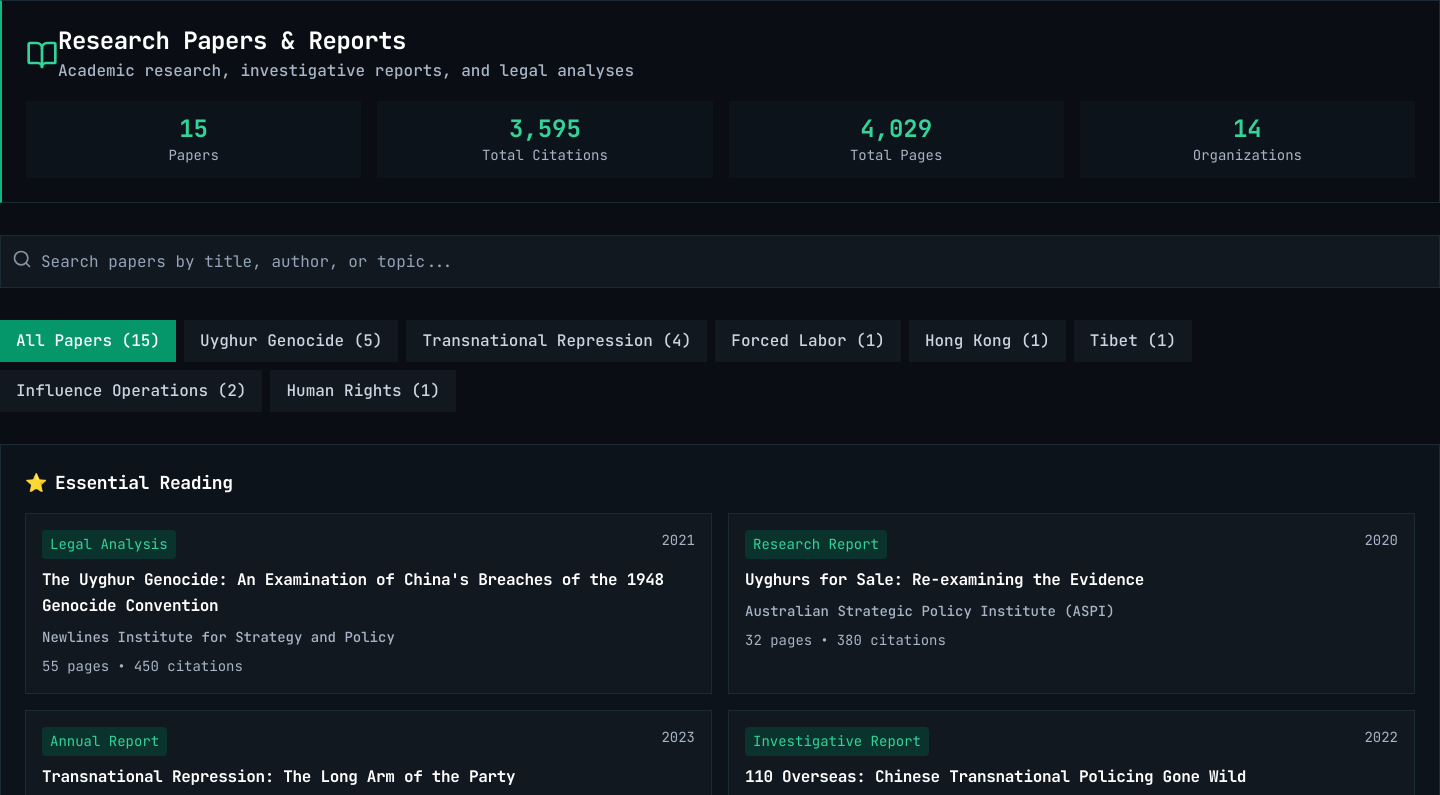
Scenario: ResearchPapers › shows no results message when search has no matches
This screenshot has width=1440, height=795.
In the field labelled "Search": {"x": 720, "y": 262} [0,235,1439,288], type "zzzznonexistent"
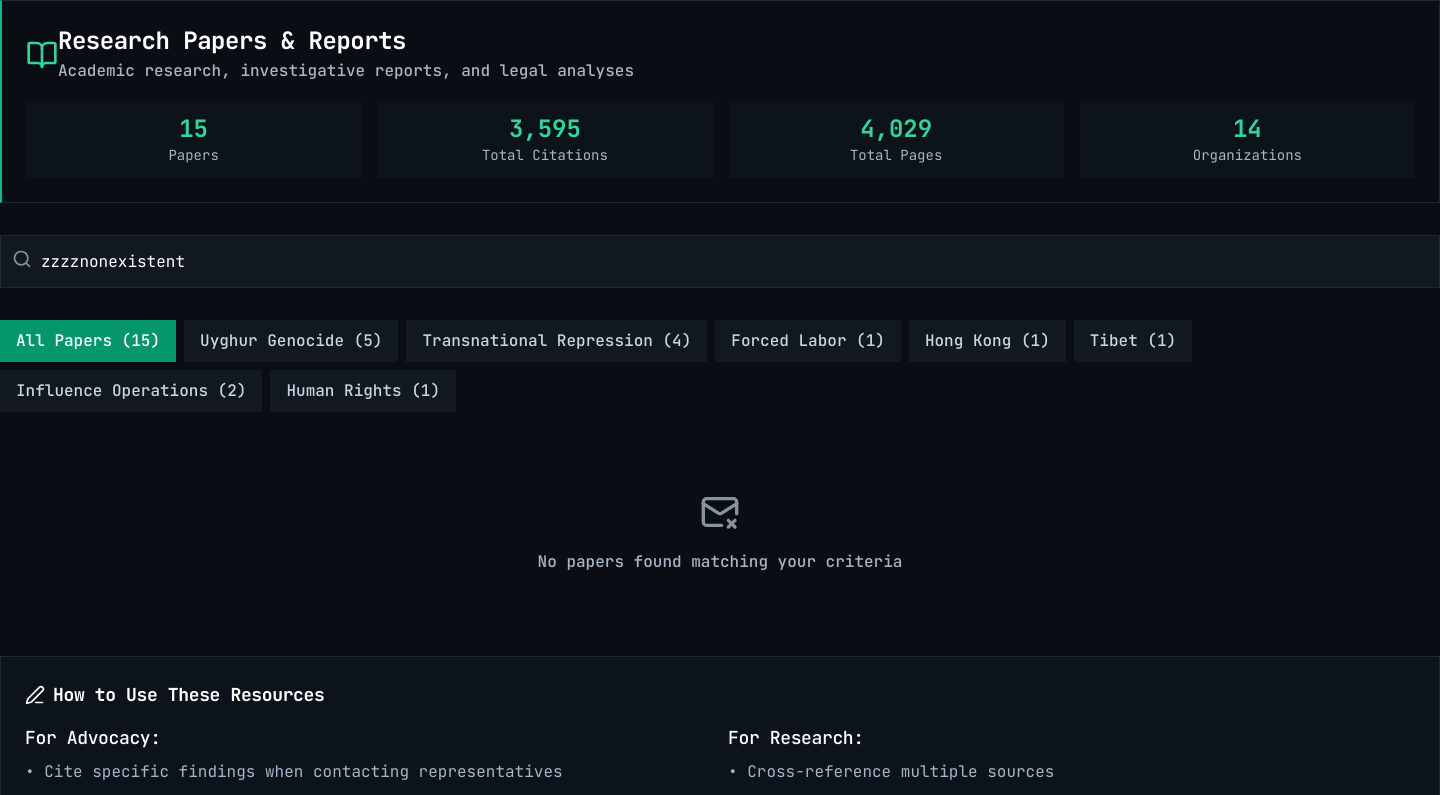
Now the text "No papers found matching your criteria" is shown, box [538,551,902,572]
